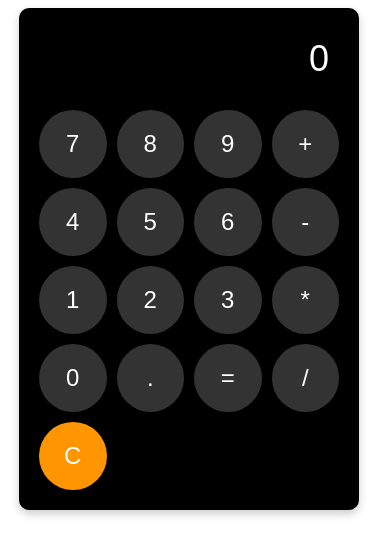
Test case: App › should calculate correctly › should perform subtraction correctly
Click the button "8": (150,144) [116,110,184,178]
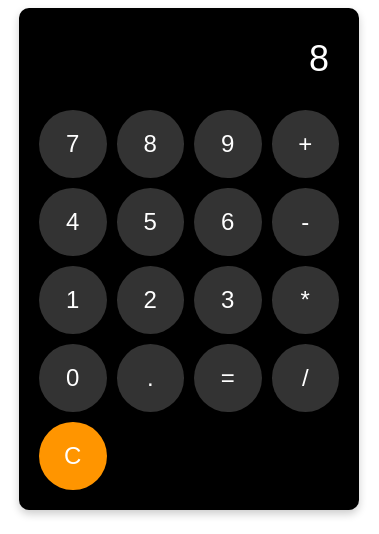
Click the button "-": (305,222) [272,188,339,256]
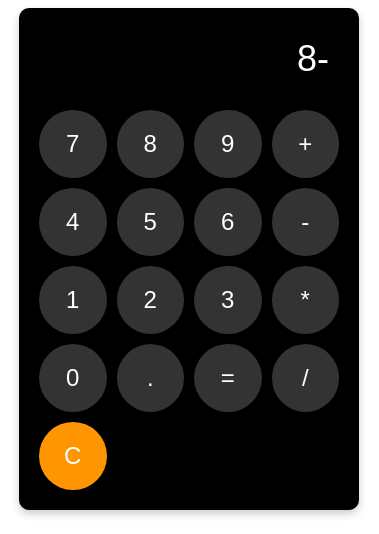
Click the button "2": (150,300) [116,266,184,334]
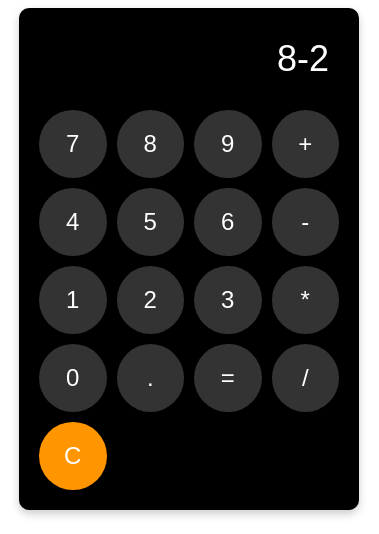
Click the button "=": (228,378) [194,344,262,412]
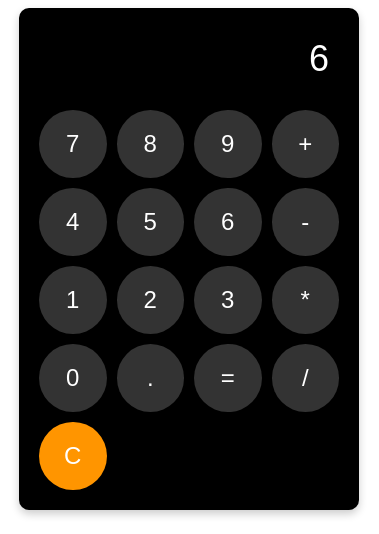
Now the text with test id "display" reads "6", box [309,38,329,79]
